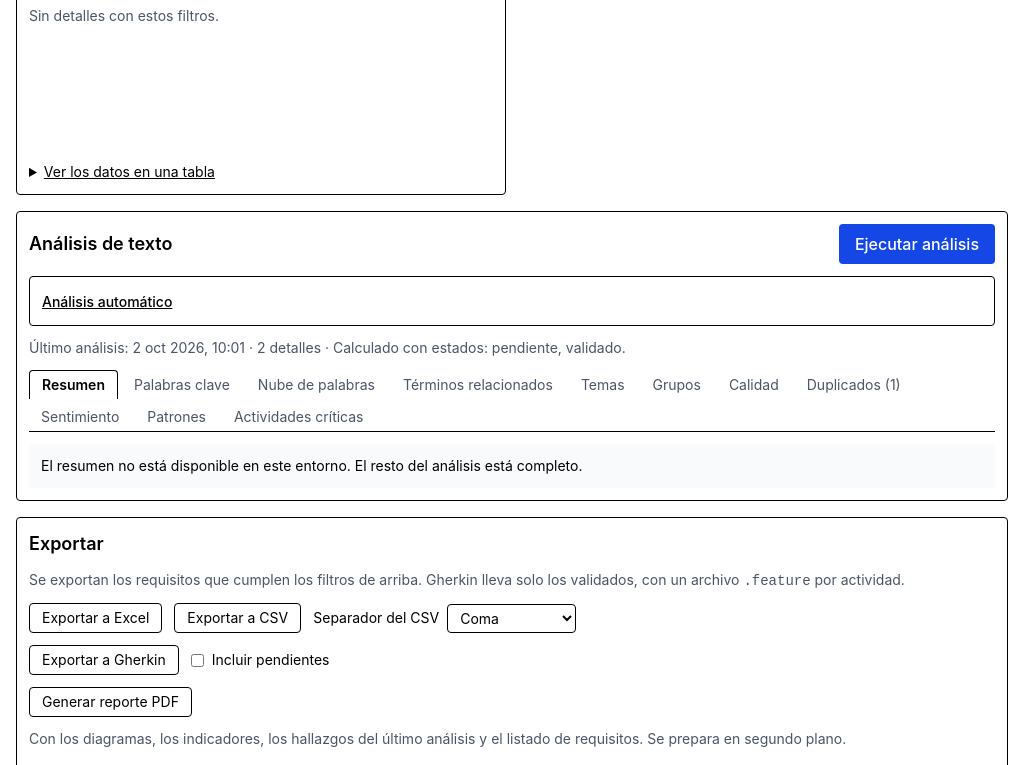
Test: posibles duplicados › muestra cada par con su similitud; confirmar envía cuál se conserva y el par desaparece
(page scrolled)
Click the tab "Duplicados (1)" at (854, 384), box x1=795 y1=370 x2=913 y2=399
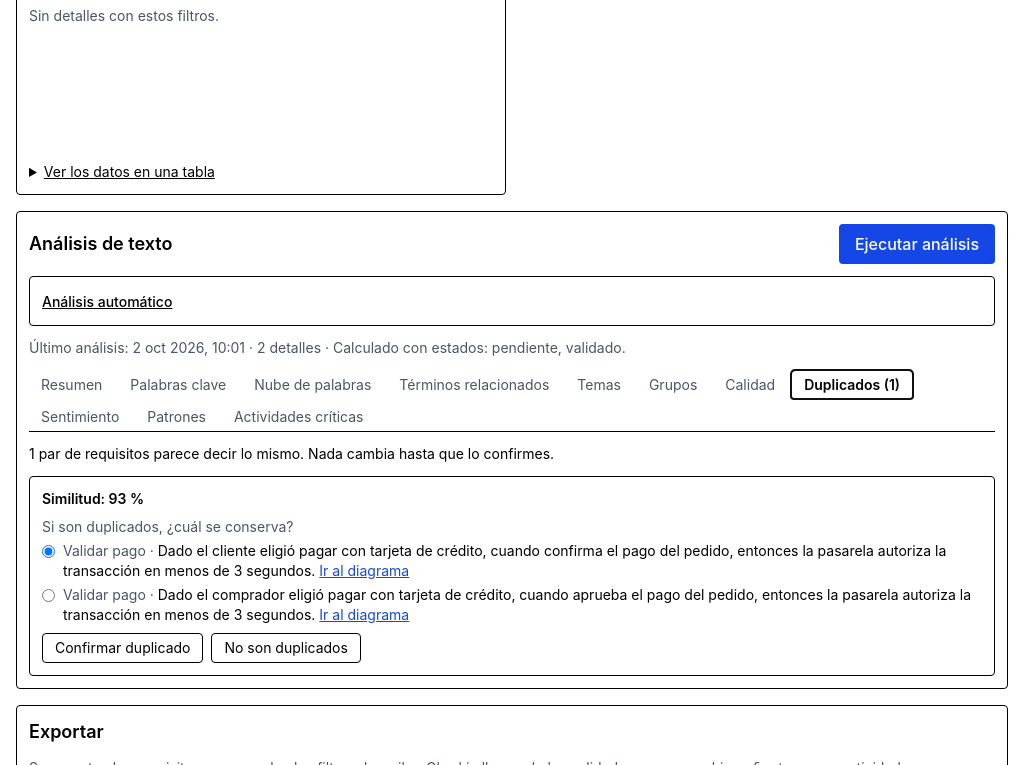
Check: the text "1 par de requisitos parece decir lo mismo. Nada cambia hasta que lo confirmes." is shown, box x1=29 y1=445 x2=554 y2=462
Check: the list item with aria-label "Posible duplicado" shows "Similitud: 93 %", box x1=29 y1=476 x2=995 y2=676
Check: the 1st radio button is checked, box x1=42 y1=545 x2=55 y2=558
Click the 2nd radio button at (48, 596), box x1=42 y1=589 x2=55 y2=602
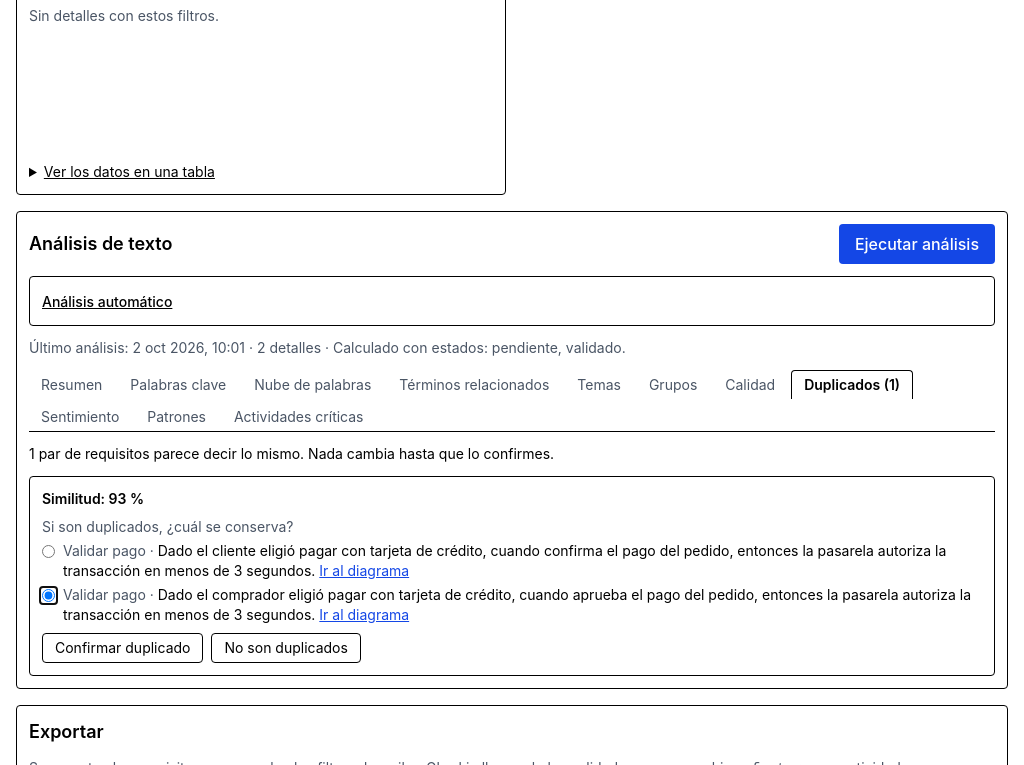
Click the button "Confirmar duplicado" at (123, 648), box x1=42 y1=633 x2=204 y2=663
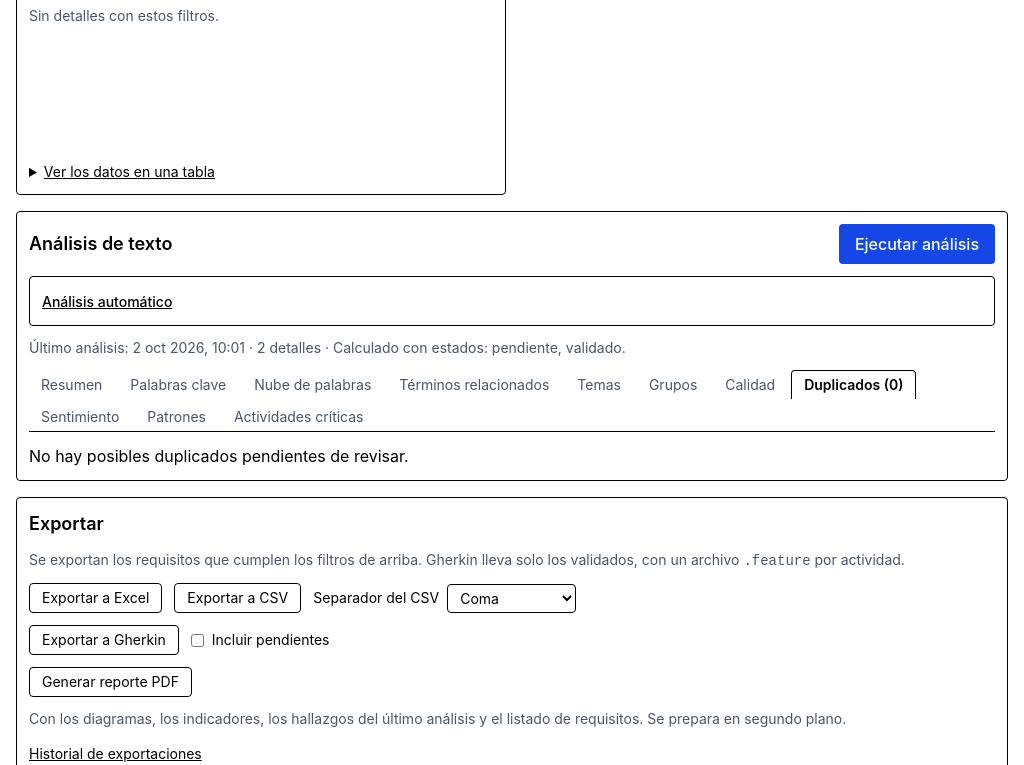
Check: the text "No hay posibles duplicados pendientes de revisar." is shown, box x1=29 y1=446 x2=409 y2=466
